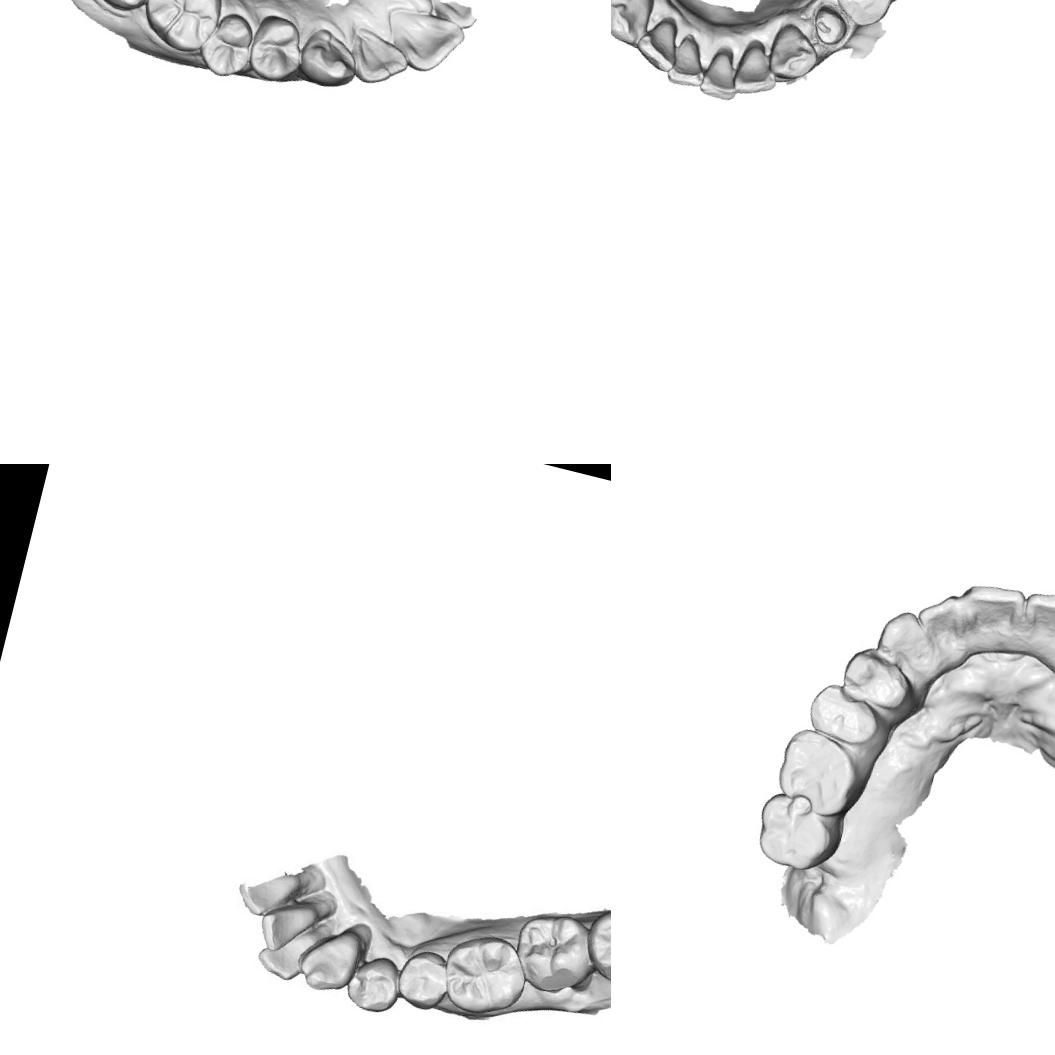canine: (869, 602, 946, 676), (294, 920, 364, 997), (294, 22, 362, 94), (762, 17, 826, 89), (611, 0, 660, 50)
crown: (804, 0, 855, 53)
incisor: (373, 0, 471, 81), (951, 574, 1028, 652), (904, 584, 977, 663), (343, 22, 414, 92), (254, 892, 318, 956), (726, 38, 786, 104), (630, 8, 687, 76), (255, 922, 315, 986), (1011, 585, 1055, 670), (663, 32, 715, 92), (695, 47, 747, 104)
molar: (766, 722, 880, 825), (433, 925, 530, 1028), (500, 904, 599, 1004), (748, 788, 848, 880), (134, 0, 229, 60), (577, 900, 611, 989)
premolar: (799, 676, 899, 757), (831, 639, 925, 725), (242, 8, 311, 90), (194, 4, 260, 84), (338, 951, 402, 1018), (393, 946, 456, 1014), (827, 0, 900, 33)
